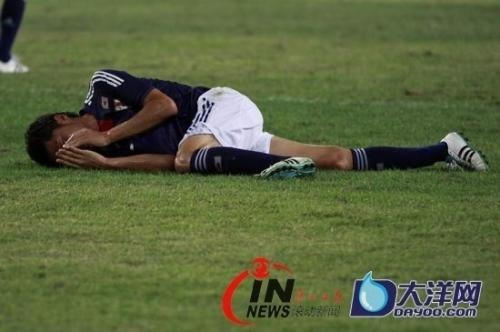falling: (18, 47, 483, 181)
